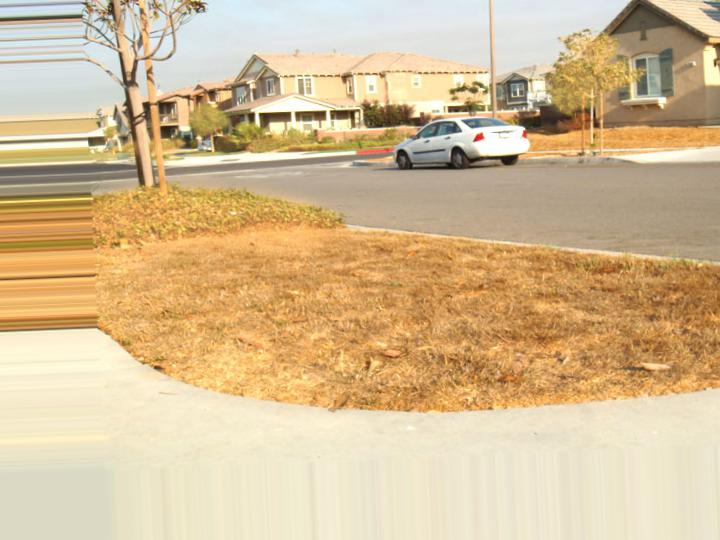patch: (138, 239, 672, 402), (111, 188, 291, 243), (553, 130, 683, 152)
